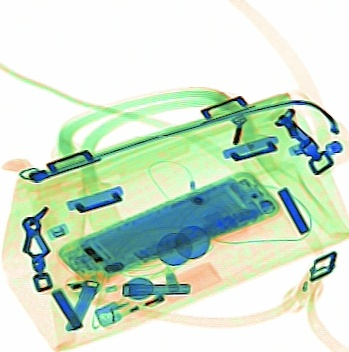lighter: (91, 263, 219, 324)
